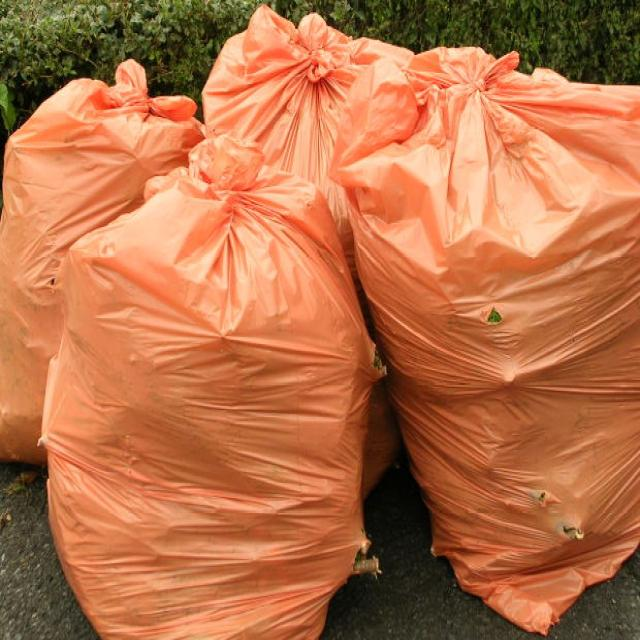trash: (35, 37, 629, 622)
